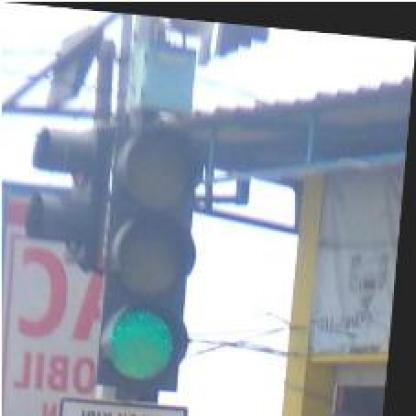green: (100, 120, 208, 386)
